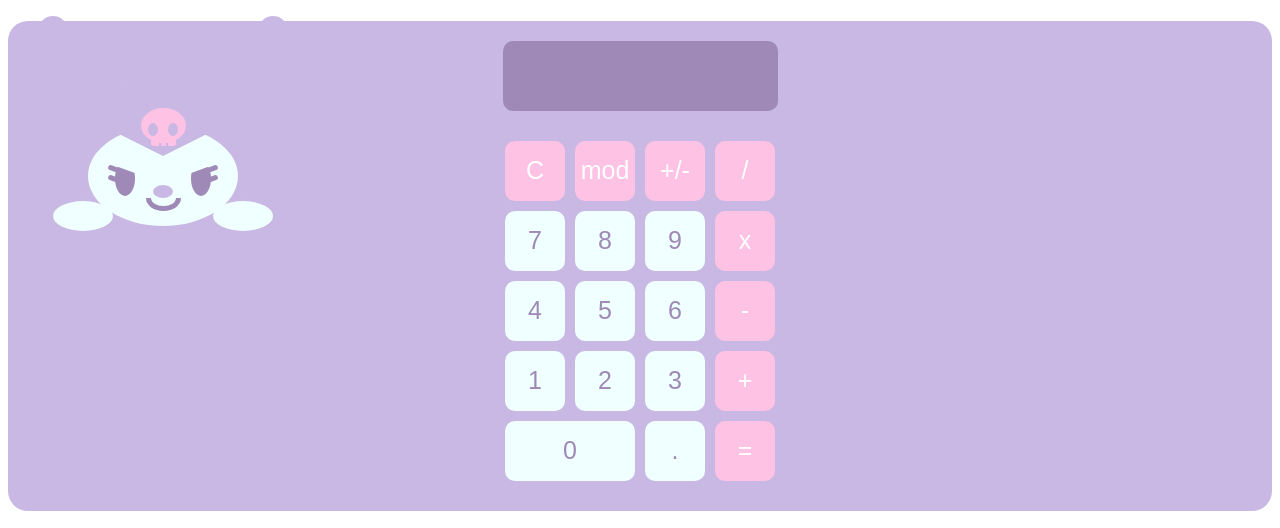
Scenario: Funcionalidades Calculadora › La pantalla muestra resultados que exceden 9 digitos si estos contienen decimales y los aproxima
Click the button "8" at (605, 241), box [575,211,635,271]
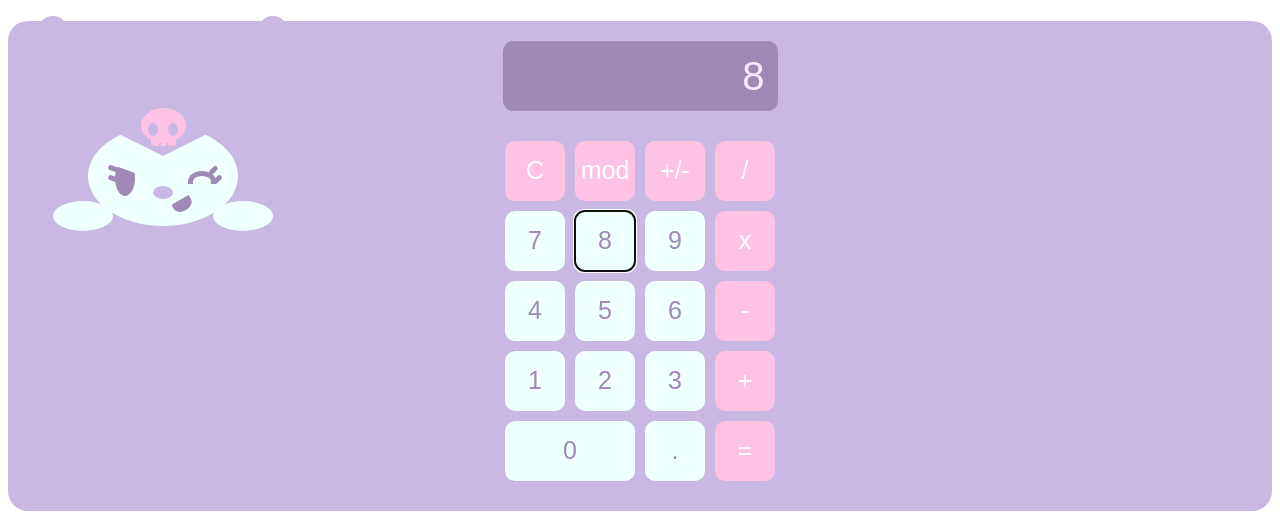
Click the button "/" at (745, 171), box [715,141,775,201]
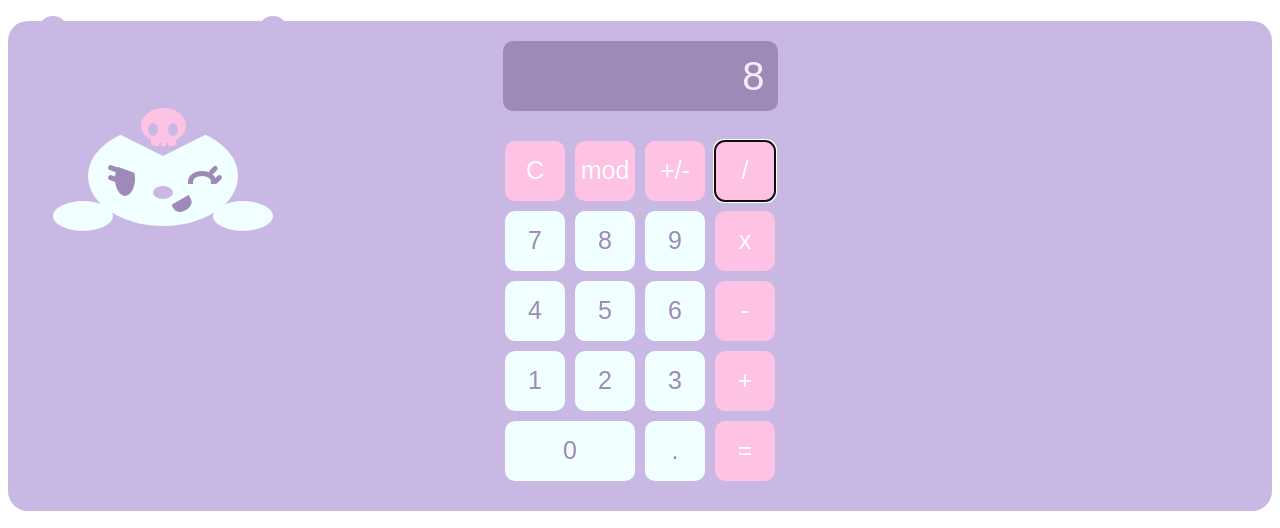
Click the button "3" at (675, 381), box [645,351,705,411]
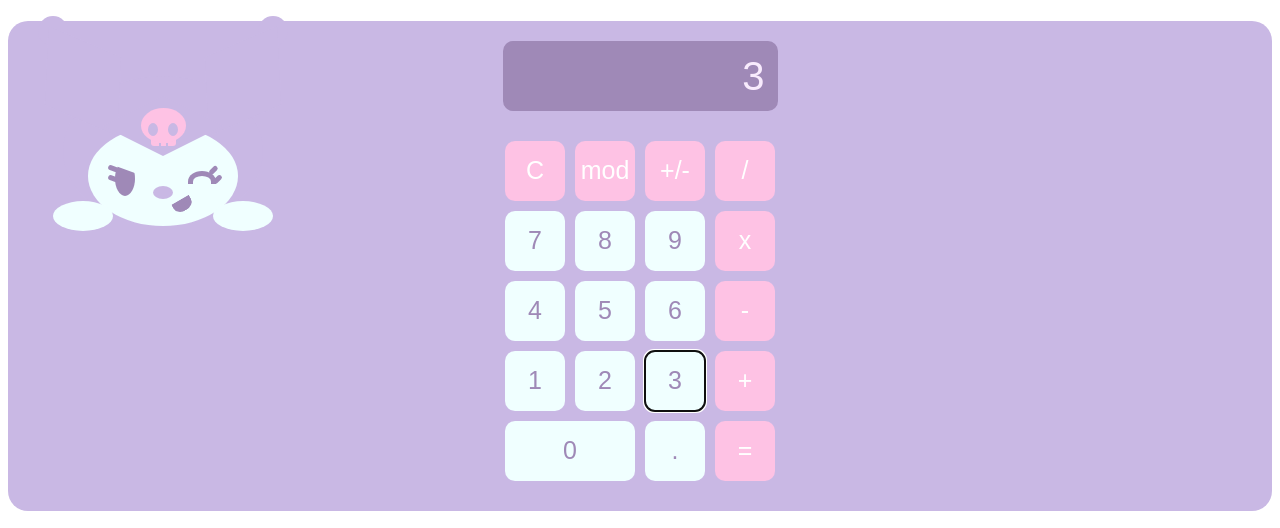
Click the button "=" at (745, 451), box [715,421,775,481]
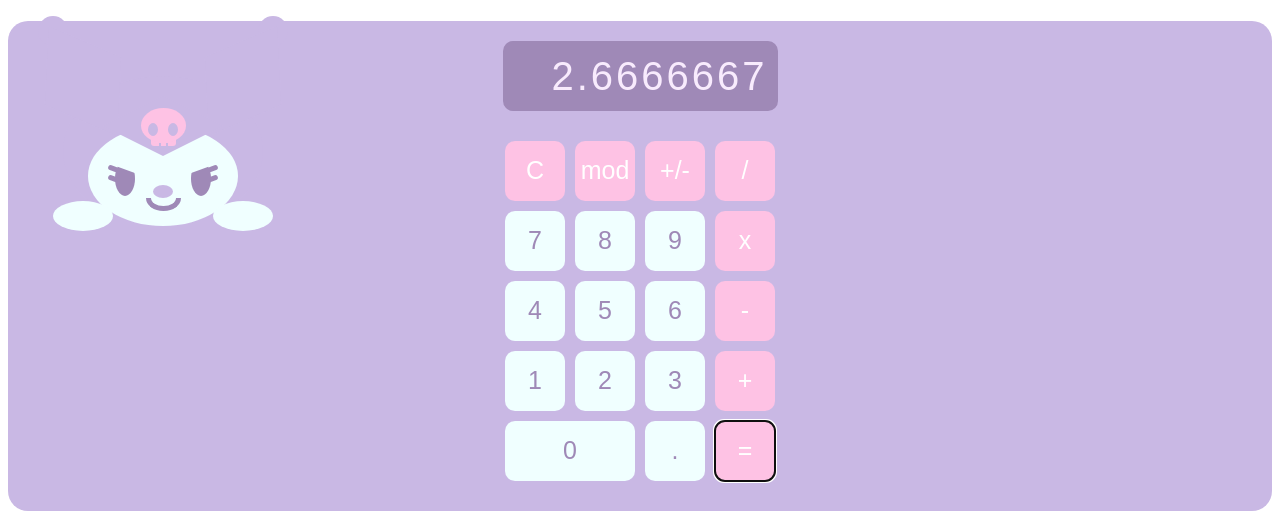
Result: the text "2.6666667" is shown at [502,41,778,111]
